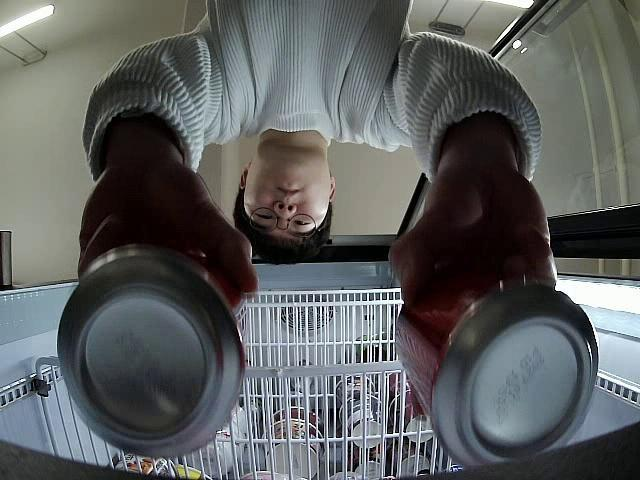11_cocaColaZero: (390, 280, 598, 469), (56, 252, 245, 458)
